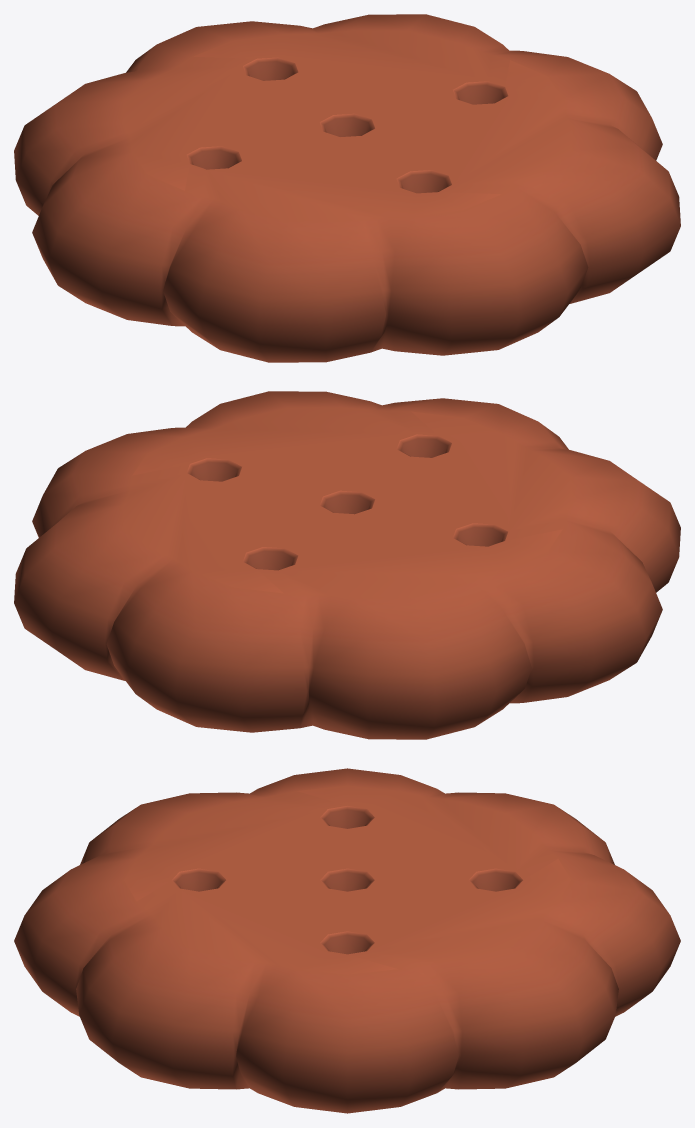
File: Biscuits_V4_00.fbx
3 renders of one model, top to bottom at view 1: azimuth 30°, elevation 25°; view 2: azimuth 150°, elevation 25°; view 3: azimuth 270°, elevation 25°, orthographic. The views are drawn at different scales.
Parts seen in each view (by area): view 1: Biscuits_V4_00; view 2: Biscuits_V4_00; view 3: Biscuits_V4_00.
Part boxes in pixels (x1,y1,x2,y2): Biscuits_V4_00: (14,14,680,362); Biscuits_V4_00: (14,391,680,739); Biscuits_V4_00: (14,768,680,1113).
Size of the model in its own units: 28.65 by 5.77 by 28.65.
